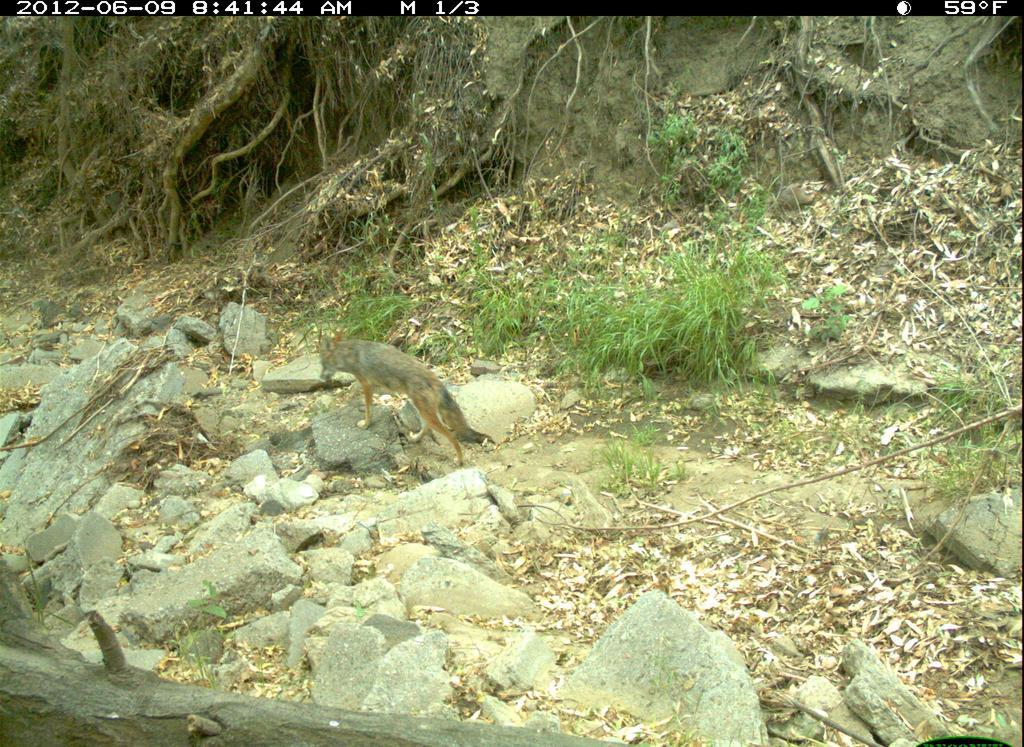coyote: (309, 329, 496, 471)
